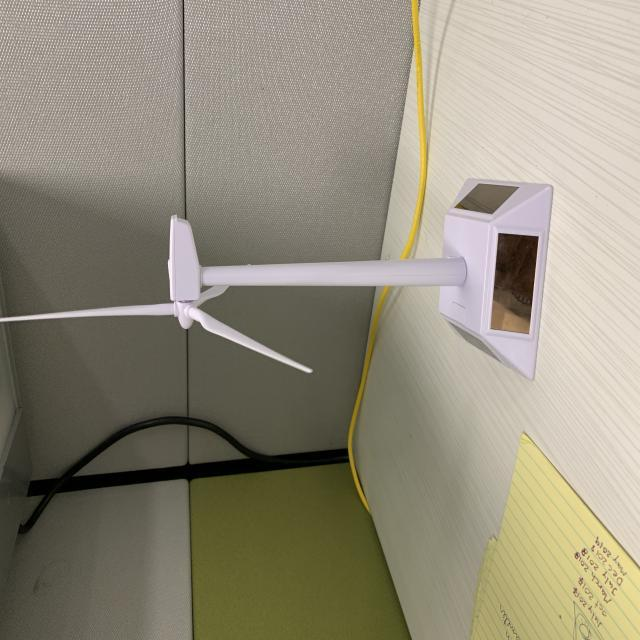solid-blade: (186, 305, 312, 373), (0, 302, 175, 322)
